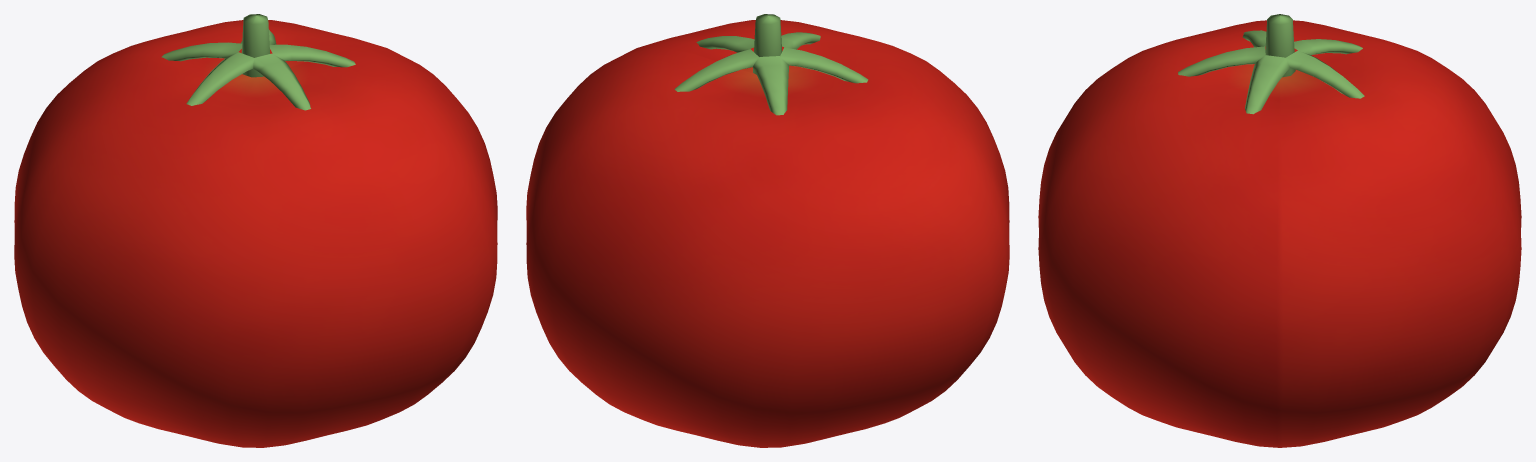
3 renders of one model, left to right at view 1: azimuth 30°, elevation 25°; view 2: azimuth 150°, elevation 25°; view 3: azimuth 270°, elevation 25°, orthographic.
Visible parts, largest first — view 1: Tomato; view 2: Tomato; view 3: Tomato.
Part boxes in pixels (<box>): Tomato: <box>14,14,497,447</box>; Tomato: <box>526,14,1009,447</box>; Tomato: <box>1038,14,1521,447</box>.
Bounding box in the file's own units: 0.0724 × 0.0615 × 0.0677.
2 materials, 1 textured.
